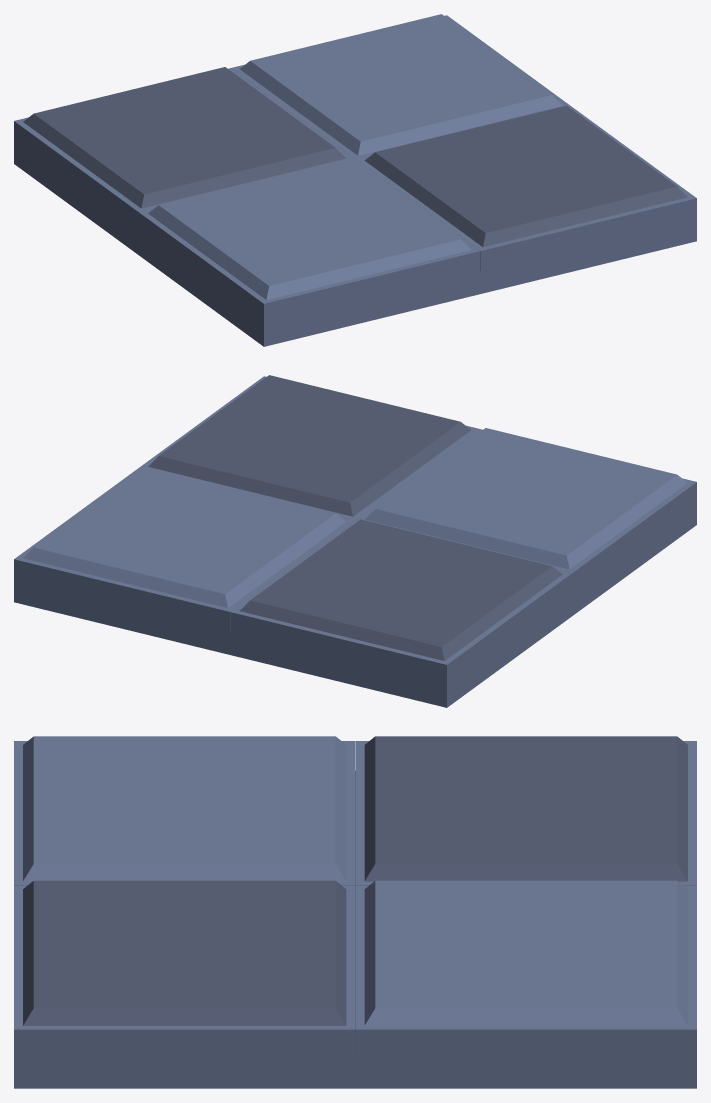
File: floor.glb
3 renders of one model, top to bottom at view 1: azimuth 30°, elevation 25°; view 2: azimuth 150°, elevation 25°; view 3: azimuth 270°, elevation 25°, orthographic. The views are drawn at different scales.
Parts seen in each view (by area): view 1: floor.001; view 2: floor.001; view 3: floor.001.
Part boxes in pixels (x1,y1,x2,y2): floor.001: [14, 14, 696, 346]; floor.001: [14, 375, 696, 707]; floor.001: [14, 736, 696, 1088].
Bounding box in the file's own units: 2.11 × 0.2444 × 2.11.
